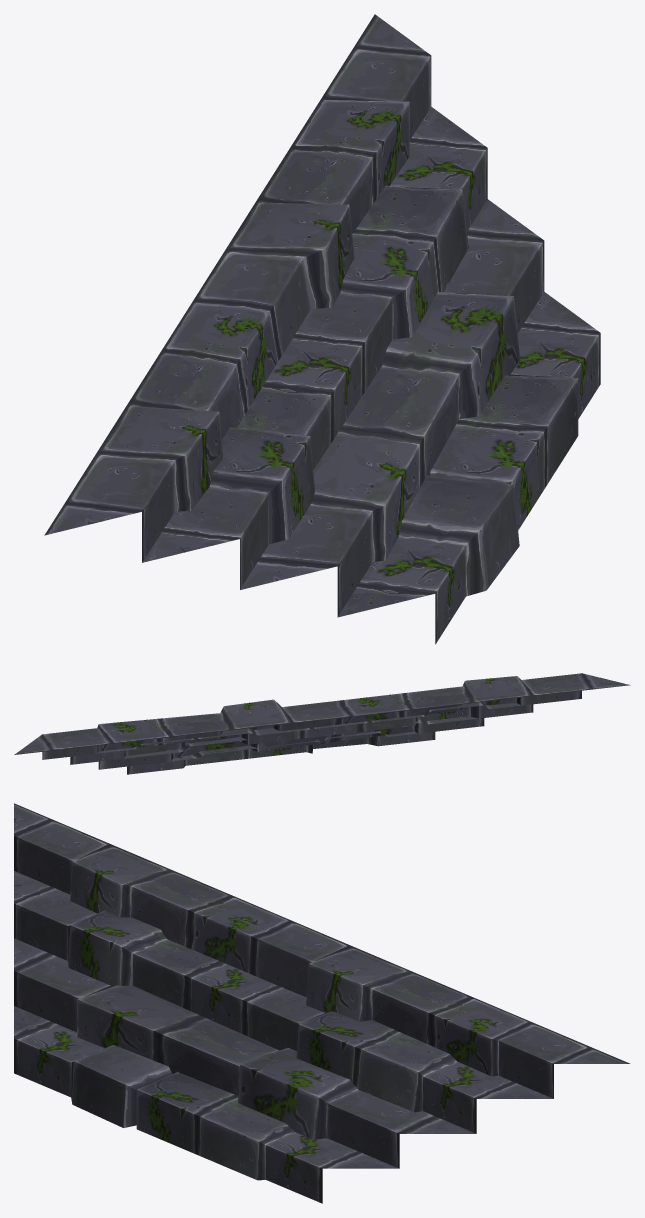
Rendered from MOD_Stairs_01_E_angle_concave_5.fbx.
The picture shows the model from 3 angles, top to bottom: view 1: azimuth 30°, elevation 25°; view 2: azimuth 150°, elevation 25°; view 3: azimuth 270°, elevation 25°; orthographic projection. The views are drawn at different scales.
Visible parts, largest first — view 1: MOD_Stairs_01_E_angle_concave_5; view 2: MOD_Stairs_01_E_angle_concave_5; view 3: MOD_Stairs_01_E_angle_concave_5.
Part boxes in pixels (x1,y1,x2,y2): MOD_Stairs_01_E_angle_concave_5: [44, 14, 600, 644]; MOD_Stairs_01_E_angle_concave_5: [14, 673, 630, 774]; MOD_Stairs_01_E_angle_concave_5: [14, 803, 630, 1203].
Size of what is drawn, in the model's own units: 400 by 104 by 400.
